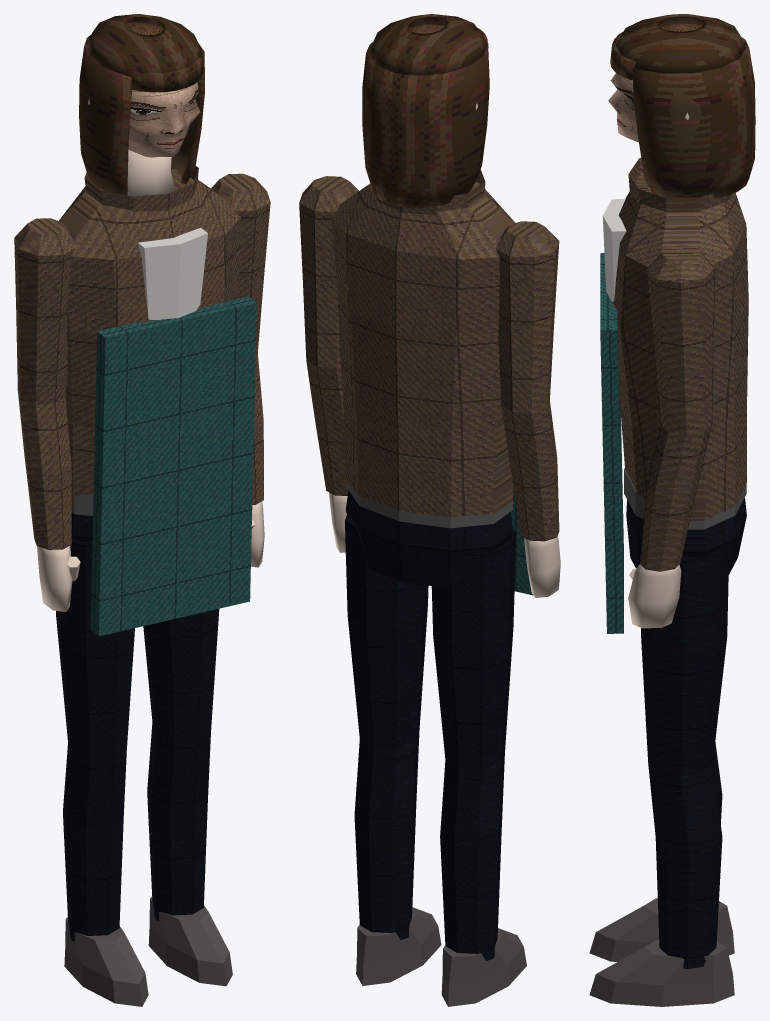
Rendered from char_dana.glb.
3 renders of one model, left to right at view 1: azimuth 30°, elevation 25°; view 2: azimuth 150°, elevation 25°; view 3: azimuth 270°, elevation 25°, orthographic.
Parts seen in each view (by area): view 1: ShopApron, LegL_Pivot_Leg, JacketTorso, LegR_Pivot_Leg, ArmSleeve_L, HairBobCurtain, ArmSleeve_R, HairBobCrown, ShirtCollar, LegL_Pivot_Boot, LegR_Pivot_Boot, OrganicHeadMesh (+6 smaller); view 2: JacketTorso, LegL_Pivot_Leg, LegR_Pivot_Leg, ArmSleeve_L, HairBobCurtain, ArmSleeve_R, Pelvis, HairBobCrown, LegL_Pivot_Boot, LegR_Pivot_Boot, Hand_L, Belt (+3 smaller); view 3: LegR_Pivot_Leg, JacketTorso, ArmSleeve_R, HairBobCurtain, LegR_Pivot_Boot, ShopApron, HairBobCrown, LegL_Pivot_Boot, Pelvis, Hand_R, JacketCollarRim, OrganicHeadMesh (+3 smaller).
Part boxes in pixels (<box>): ShopApron: <box>90,296,256,636</box>; LegL_Pivot_Leg: <box>56,539,134,941</box>; JacketTorso: <box>59,168,241,503</box>; LegR_Pivot_Leg: <box>143,609,219,920</box>; ArmSleeve_L: <box>14,218,75,549</box>; HairBobCurtain: <box>79,35,204,195</box>; ArmSleeve_R: <box>211,173,270,504</box>; HairBobCrown: <box>86,14,204,82</box>; ShirtCollar: <box>138,228,207,319</box>; LegL_Pivot_Boot: <box>64,917,148,1006</box>; LegR_Pivot_Boot: <box>148,896,232,986</box>; OrganicHeadMesh: <box>126,22,200,157</box>; JacketTorso: <box>331,181,515,517</box>; LegL_Pivot_Leg: <box>431,530,516,960</box>; LegR_Pivot_Leg: <box>345,515,428,940</box>; ArmSleeve_L: <box>496,221,559,541</box>; HairBobCurtain: <box>362,42,489,207</box>; ArmSleeve_R: <box>299,176,358,495</box>; Pelvis: <box>345,490,512,588</box>; HairBobCrown: <box>368,14,488,75</box>; LegL_Pivot_Boot: <box>441,928,526,1006</box>; LegR_Pivot_Boot: <box>356,907,441,985</box>; Hand_L: <box>524,536,560,597</box>; Belt: <box>347,481,512,528</box>; LegR_Pivot_Leg: <box>639,548,728,968</box>; JacketTorso: <box>613,172,748,521</box>; ArmSleeve_R: <box>640,244,715,571</box>; HairBobCurtain: <box>632,37,755,198</box>; LegR_Pivot_Boot: <box>589,940,734,1006</box>; ShopApron: <box>600,253,623,633</box>; HairBobCrown: <box>615,14,745,76</box>; LegL_Pivot_Boot: <box>589,898,734,961</box>; Pelvis: <box>626,497,746,574</box>; Hand_R: <box>628,564,681,628</box>; JacketCollarRim: <box>628,158,732,212</box>; OrganicHeadMesh: <box>608,23,702,142</box>.
Bounding box in the file's own units: 0.4783 × 1.72 × 0.2715.
9 materials, 5 textured.
